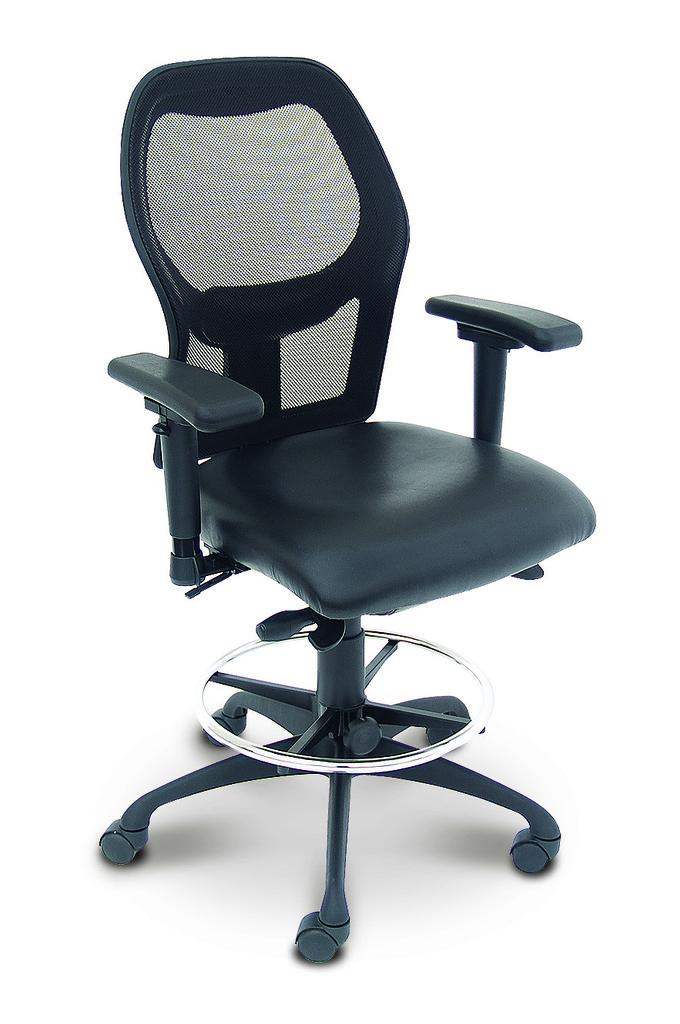Chair: (95, 55, 592, 964)
